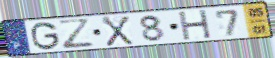7: (213, 8, 242, 37)
8: (139, 14, 168, 43)
G: (30, 20, 62, 51)
H: (177, 9, 214, 42)
X: (100, 15, 135, 48)
Z: (56, 17, 97, 51)
